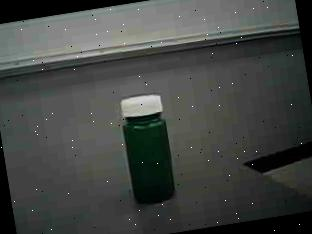Bottle C: (105, 82, 193, 219)
